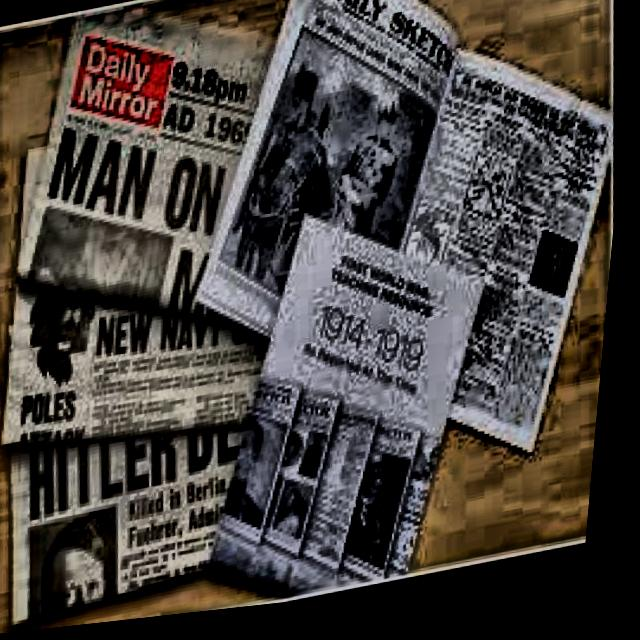Paper: (157, 0, 640, 524), (184, 184, 521, 620), (0, 0, 305, 362), (0, 106, 298, 472), (0, 381, 275, 629)
